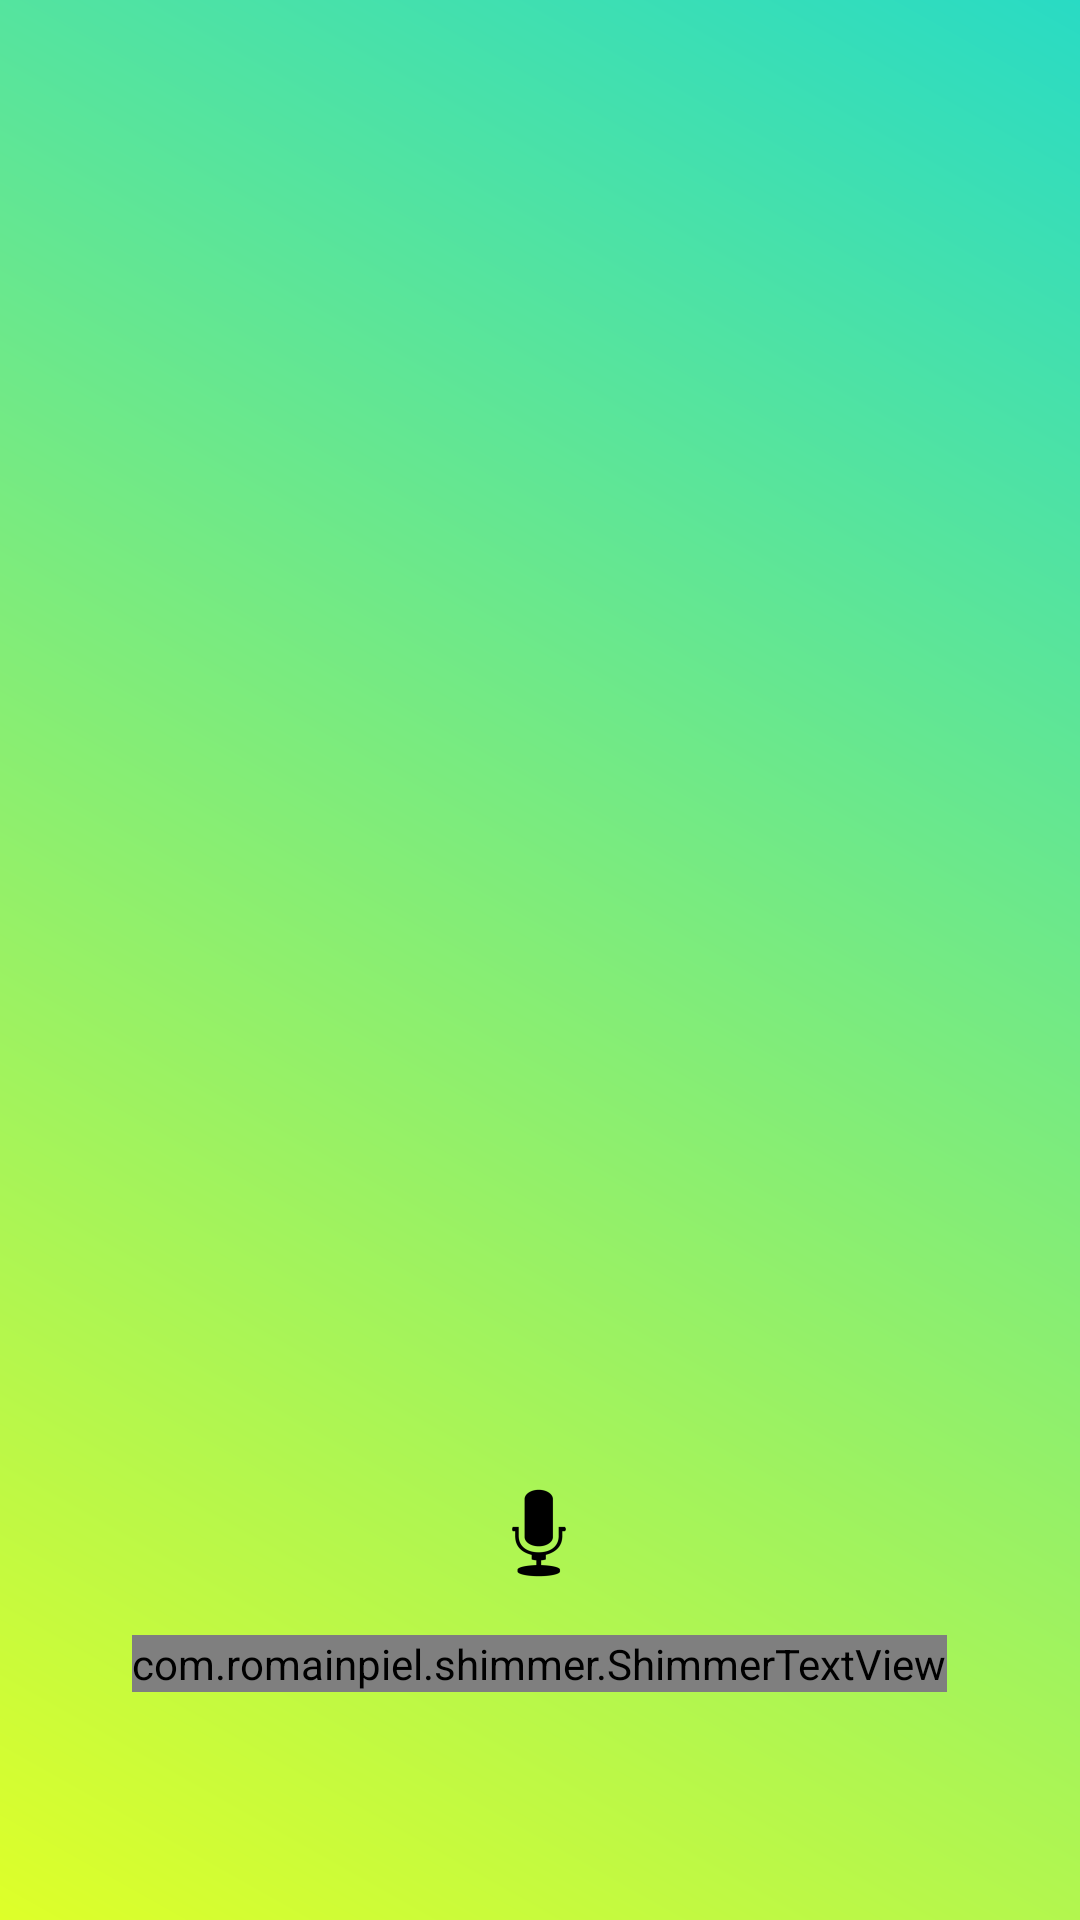

Where to tap for icons on this 1080w x 1920h app screen, as point (x, y):
mic: point (539, 1533)
